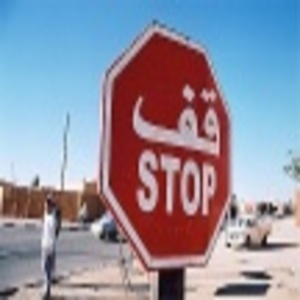stop: (100, 20, 231, 272)
